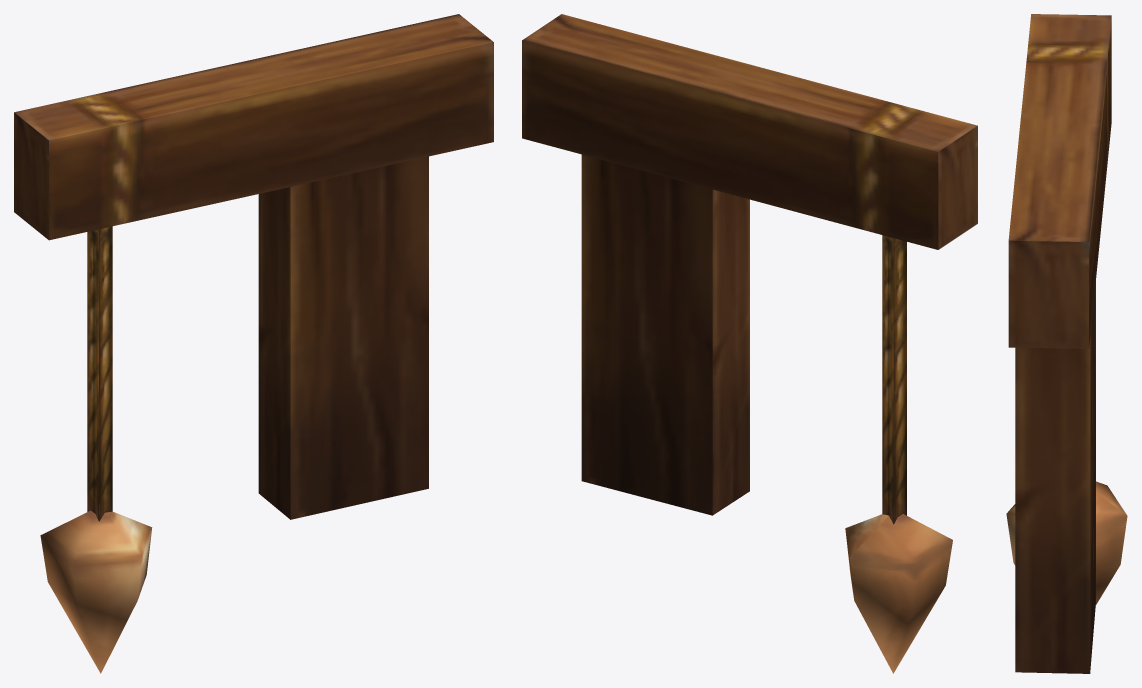
The model's file is deng01.FBX.
3 renders of one model, left to right at view 1: azimuth 30°, elevation 25°; view 2: azimuth 150°, elevation 25°; view 3: azimuth 270°, elevation 25°, orthographic. The views are drawn at different scales.
Parts seen in each view (by area): view 1: deng01; view 2: deng01; view 3: deng01.
Boxes of the visible parts, x1,y1,x2,y2 form: deng01: [14, 14, 493, 673]; deng01: [522, 14, 977, 673]; deng01: [1006, 14, 1127, 673].
Size of the model in its own units: 75.04 by 92.31 by 16.83.
